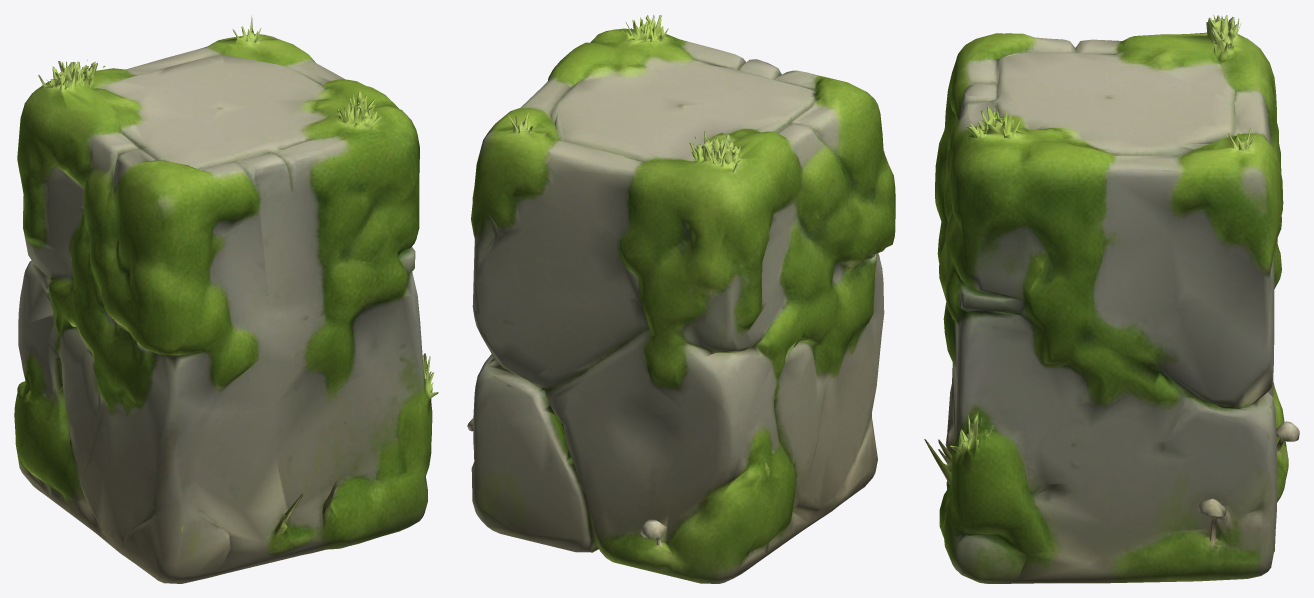
File: pillar6.glb
3 renders of one model, left to right at view 1: azimuth 30°, elevation 25°; view 2: azimuth 150°, elevation 25°; view 3: azimuth 270°, elevation 25°, orthographic. The views are drawn at different scales.
Visible parts, largest first — view 1: world; view 2: world; view 3: world.
Boxes of the visible parts, bbox=[...] form: world: bbox=[14, 15, 438, 583]; world: bbox=[467, 15, 895, 583]; world: bbox=[924, 15, 1299, 583].
Size of the model in its own units: 0.7282 by 0.9788 by 0.724.
1 material, 1 textured.
